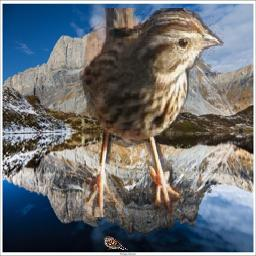Sparrow: (80, 9, 224, 218), (102, 236, 128, 250)
